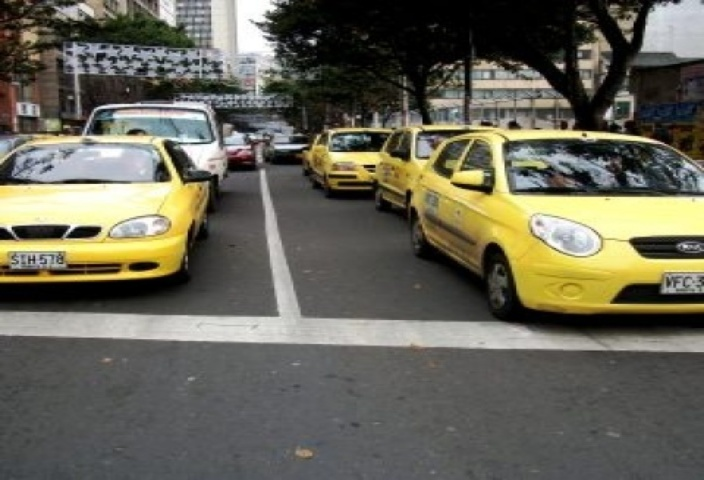car: (72, 96, 240, 190), (219, 125, 262, 173), (263, 129, 314, 166)
taxi: (404, 132, 704, 328), (1, 131, 228, 305), (376, 125, 561, 226), (297, 128, 403, 195)
